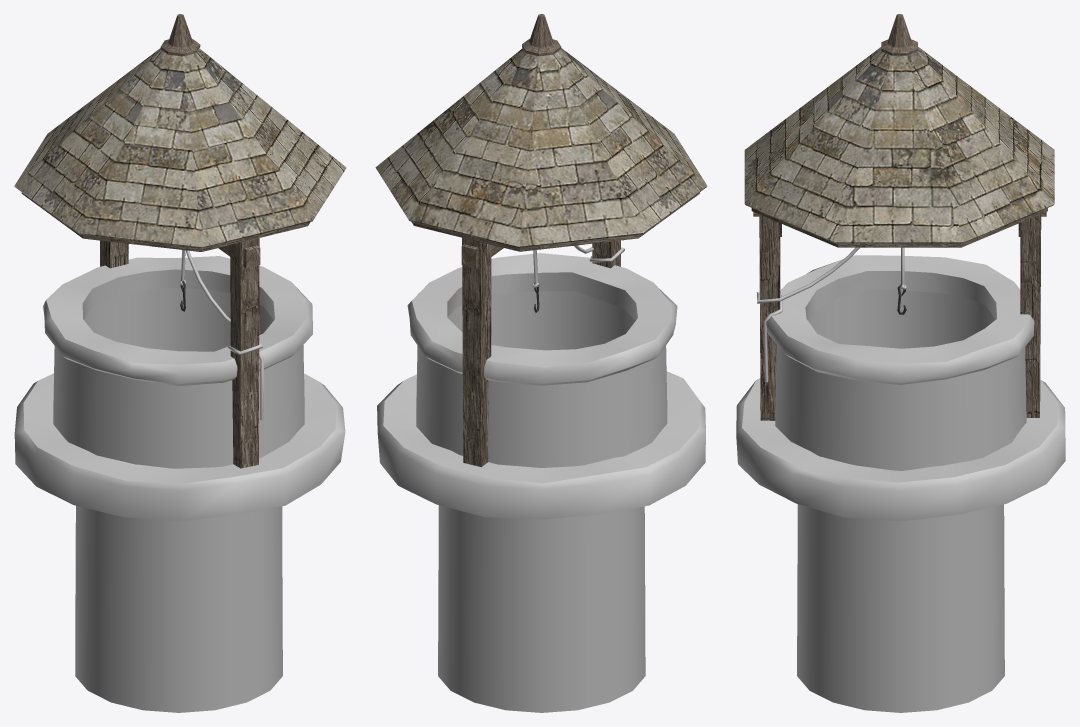
Rendered from mw_type_2_well_01.FBX.
The picture shows the model from 3 angles, left to right: view 1: azimuth 30°, elevation 25°; view 2: azimuth 150°, elevation 25°; view 3: azimuth 270°, elevation 25°; orthographic projection.
Visible parts, largest first — view 1: mw_well_01_stone, mw_well_wood, mw_well_01_rope; view 2: mw_well_01_stone, mw_well_wood; view 3: mw_well_01_stone, mw_well_wood, mw_well_01_rope.
Part boxes in pixels (bbox=[...]): mw_well_01_stone: bbox=[14, 256, 345, 712]; mw_well_wood: bbox=[14, 14, 346, 468]; mw_well_01_rope: bbox=[179, 250, 263, 420]; mw_well_01_stone: bbox=[377, 253, 705, 712]; mw_well_wood: bbox=[375, 14, 707, 467]; mw_well_01_stone: bbox=[736, 255, 1065, 712]; mw_well_wood: bbox=[744, 14, 1054, 420]; mw_well_01_rope: bbox=[756, 247, 906, 382].
Size of the model in its own units: 332 by 718 by 328.
